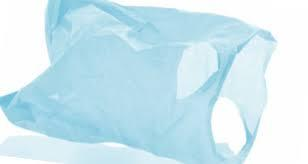Plastic bag: (17, 0, 270, 164)
